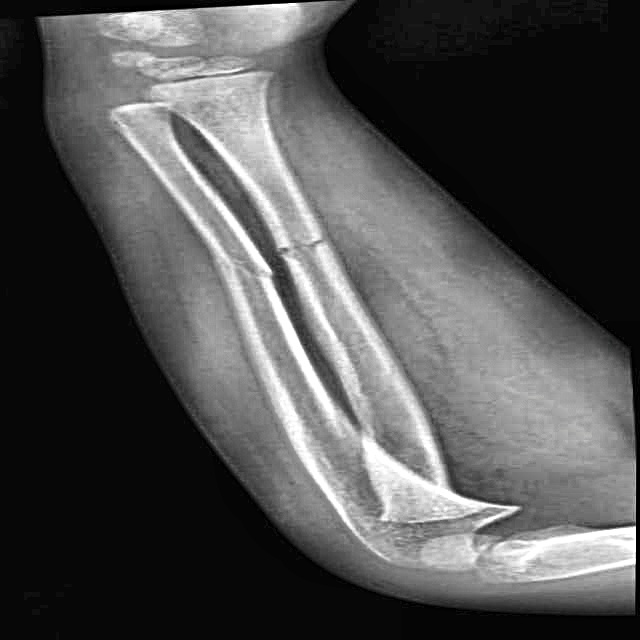Oblique Displaced: (178, 237, 276, 291)
Transverse Displaced: (258, 218, 354, 271)
